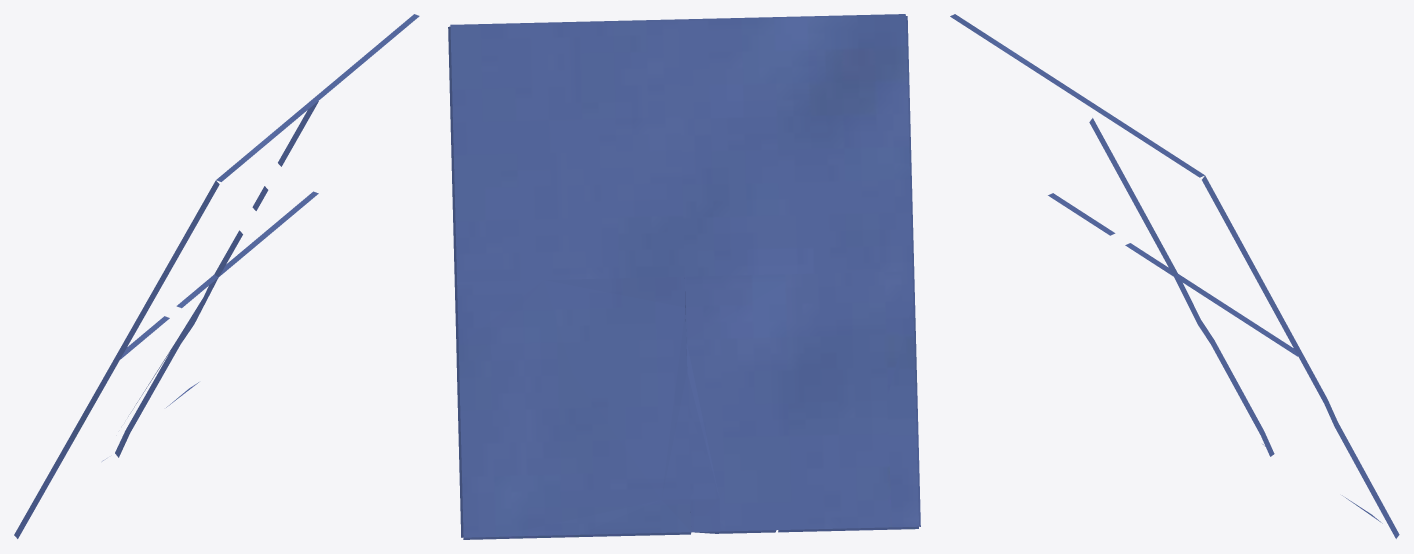
3 views of the same model, side by side, from view 1: azimuth 30°, elevation 25°; view 2: azimuth 150°, elevation 25°; view 3: azimuth 270°, elevation 25° (orthographic). The views are drawn at different scales.
Bounding box in the file's own units: 39445 × 35283 × 34491.
1 material, 1 textured.
